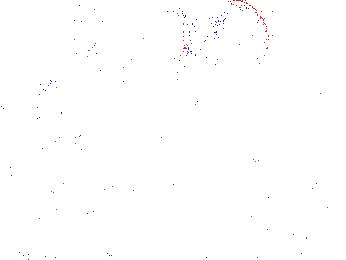moon jellyfish: (56, 59, 135, 176), (99, 1, 191, 85), (213, 1, 269, 82)
